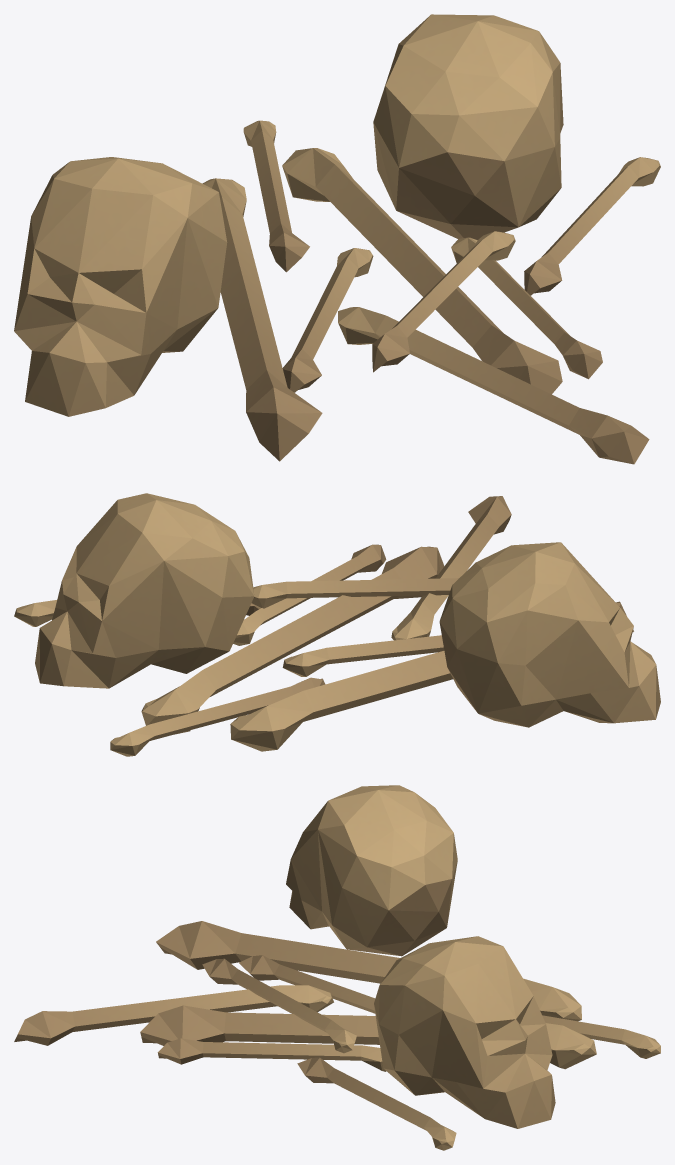
File: Skull_4A.fbx
The picture shows the model from 3 angles, top to bottom: view 1: azimuth 30°, elevation 25°; view 2: azimuth 150°, elevation 25°; view 3: azimuth 270°, elevation 25°; orthographic projection. The views are drawn at different scales.
Parts seen in each view (by area): view 1: polySurface1404; view 2: polySurface1404; view 3: polySurface1404.
Part boxes in pixels (x1=…): polySurface1404: x1=14, y1=14, x2=660, y2=464; polySurface1404: x1=14, y1=493, x2=660, y2=756; polySurface1404: x1=14, y1=785, x2=660, y2=1150.
Bounding box in the file's own units: 2.31 × 0.6612 × 2.42.
